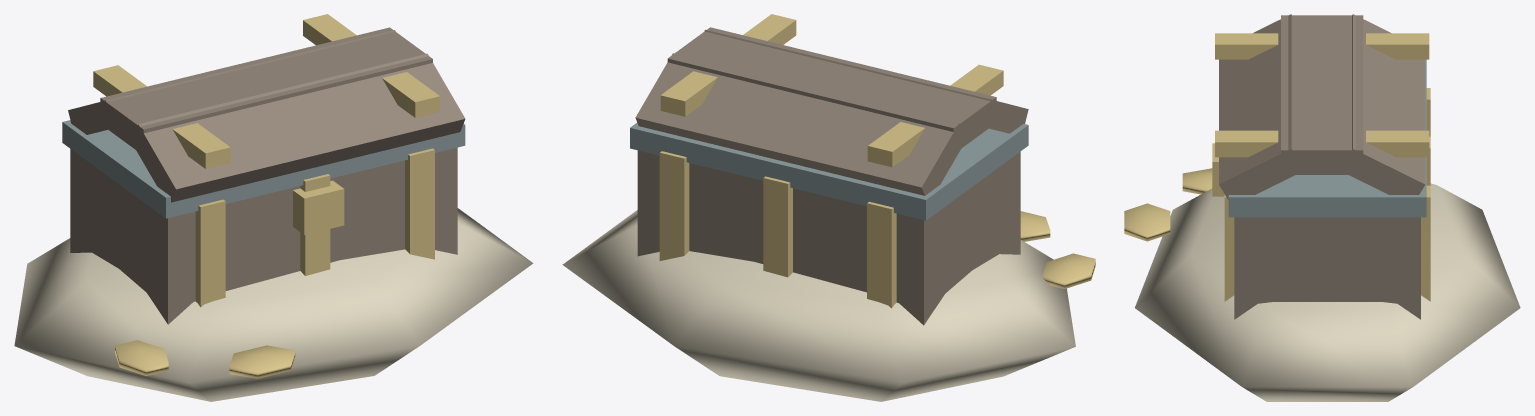
File: sunken-city-and-underwater-ruins-buried-treasure-chest-2d37c485__36971.glb
3 renders of one model, left to right at view 1: azimuth 30°, elevation 25°; view 2: azimuth 150°, elevation 25°; view 3: azimuth 270°, elevation 25°, orthographic. The views are drawn at different scales.
Parts seen in each view (by area): view 1: buried-treasure-chest, lid-chest/timber, lid-chest/brass; view 2: buried-treasure-chest, lid-chest/timber, lid-chest/brass; view 3: buried-treasure-chest, lid-chest/timber, lid-chest/brass.
Part boxes in pixels (bbox=[...]): buried-treasure-chest: bbox=[14, 120, 533, 401]; lid-chest/timber: bbox=[68, 27, 465, 202]; lid-chest/brass: bbox=[93, 14, 439, 168]; buried-treasure-chest: bbox=[562, 122, 1095, 401]; lid-chest/timber: bbox=[635, 27, 1028, 195]; lid-chest/brass: bbox=[660, 14, 1003, 167]; buried-treasure-chest: bbox=[1124, 59, 1520, 401]; lid-chest/timber: bbox=[1219, 14, 1425, 200]; lid-chest/brass: bbox=[1215, 33, 1429, 157].
Bounding box in the file's own units: 1.9 × 1.07 × 1.44.
